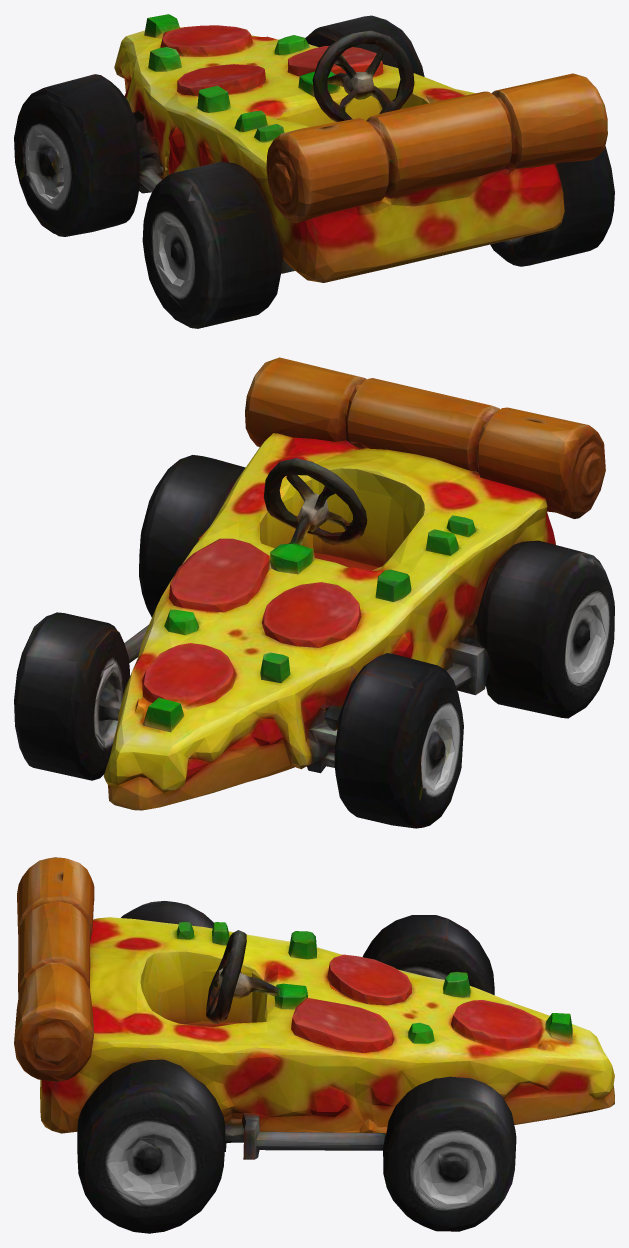
The model's file is cs_v_pizza.glb.
The picture shows the model from 3 angles, top to bottom: view 1: azimuth 30°, elevation 25°; view 2: azimuth 150°, elevation 25°; view 3: azimuth 270°, elevation 25°; orthographic projection. The views are drawn at different scales.
Visible parts, largest first — view 1: v_pizza; view 2: v_pizza; view 3: v_pizza.
Boxes of the visible parts, x1=… form: v_pizza: x1=14, y1=14, x2=614, y2=328; v_pizza: x1=14, y1=357, x2=614, y2=828; v_pizza: x1=14, y1=857, x2=614, y2=1233.
Bounding box in the file's own units: 2.35 × 1.33 × 3.1.
Materials: 1 (1 with a texture image).
